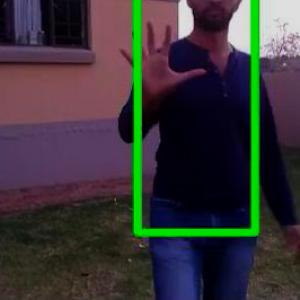follow_hand: (116, 16, 208, 99)
